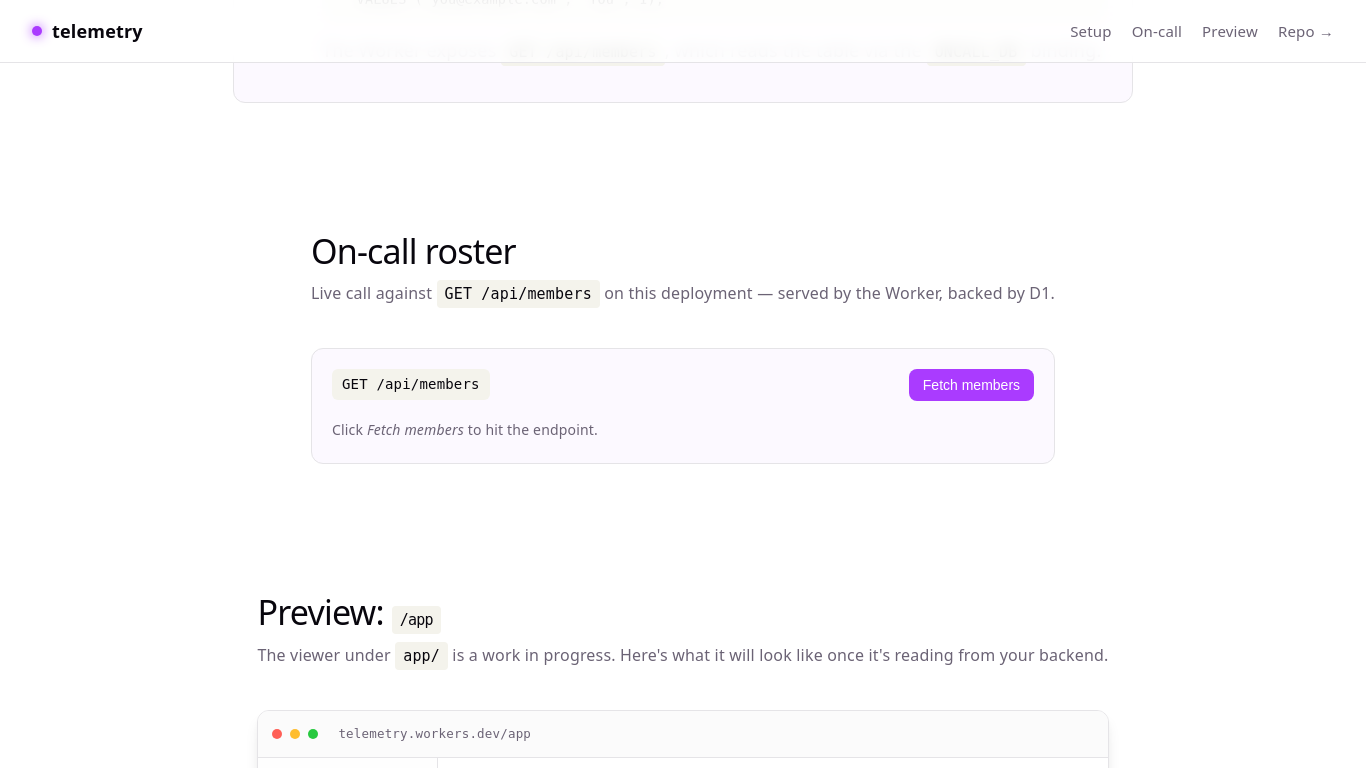
it: <App /> › shows an error hint when fetch itself rejects
(page scrolled)
Click the button "Fetch members" at x=971, y=385, box [909,369,1034,401]
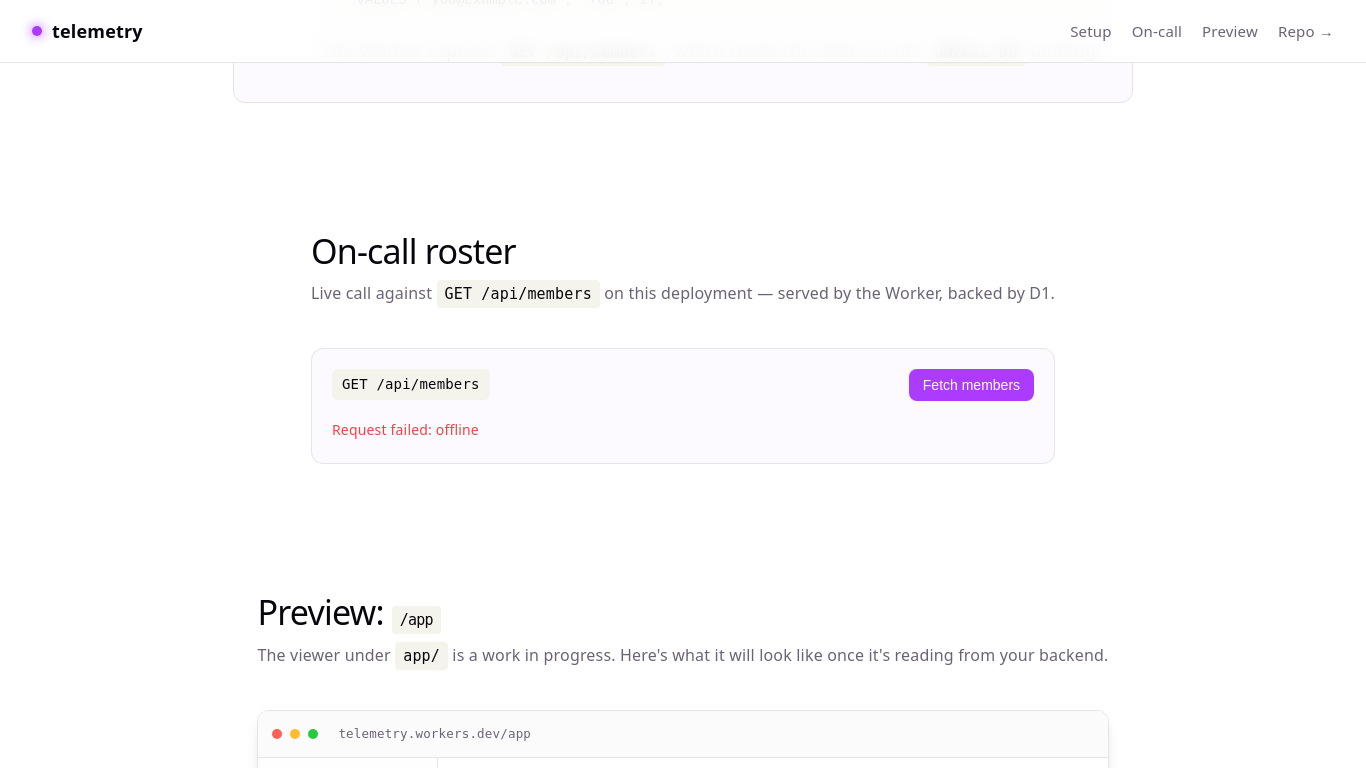
Result: the text "Request failed: offline" is shown at [332,420,479,439]
